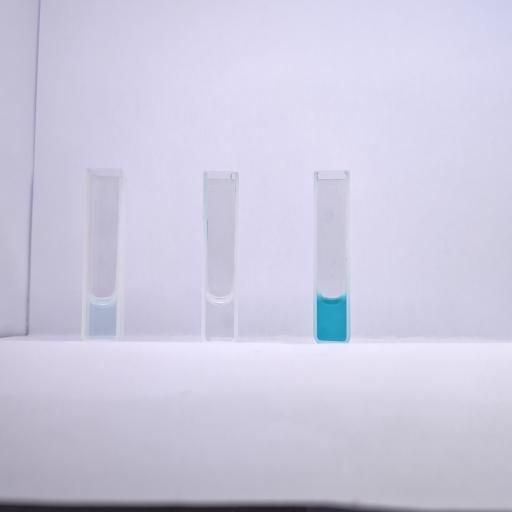cuvette: (80, 166, 126, 342), (312, 167, 354, 345), (200, 168, 241, 345)
liquid: (317, 294, 346, 340), (206, 295, 234, 338), (88, 296, 116, 338)
